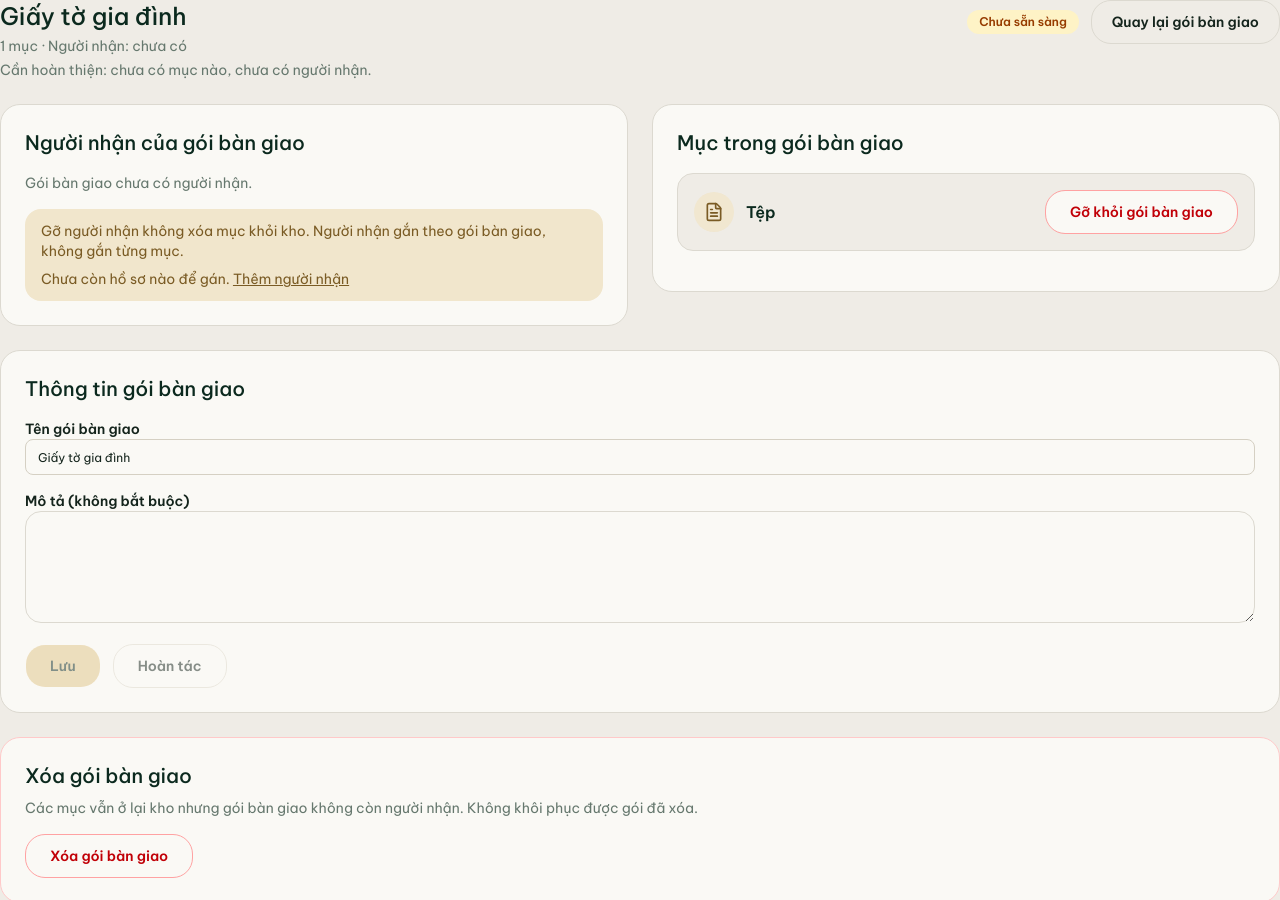
Test: does not silently confirm plan deactivation when detaching the last asset
Click the button "Gỡ khỏi gói bàn giao" at coordinates (1141, 212), box [1045,190,1238,234]
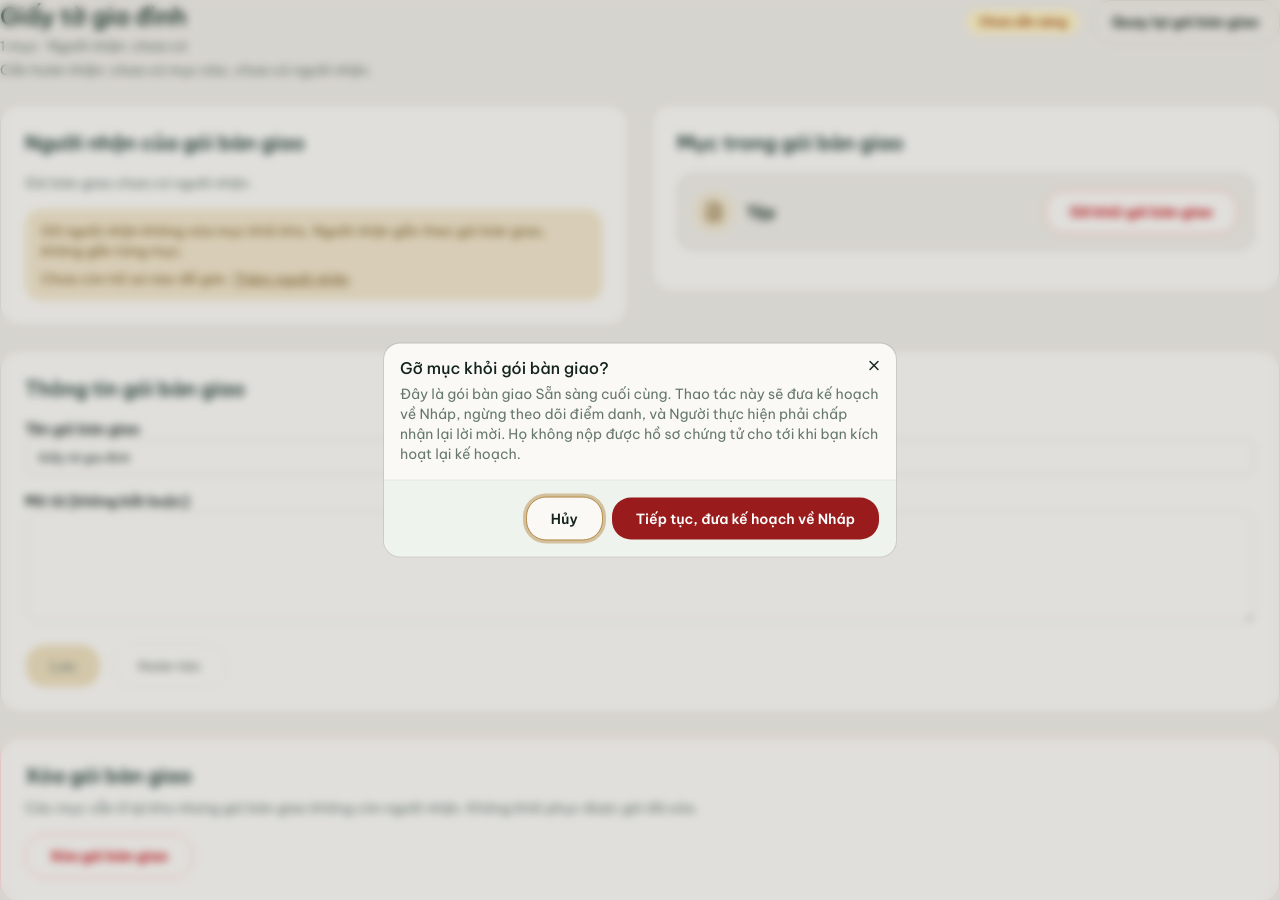
expect the dialog shows "đưa kế hoạch về Nháp": met, box [400,384,878,462]
